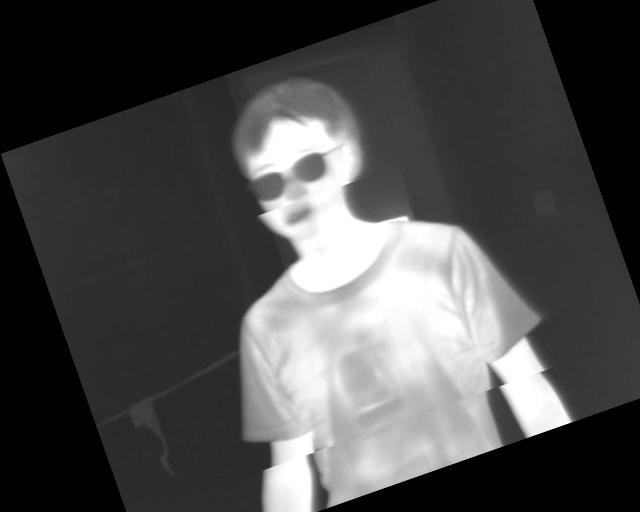face: (211, 59, 389, 255)
